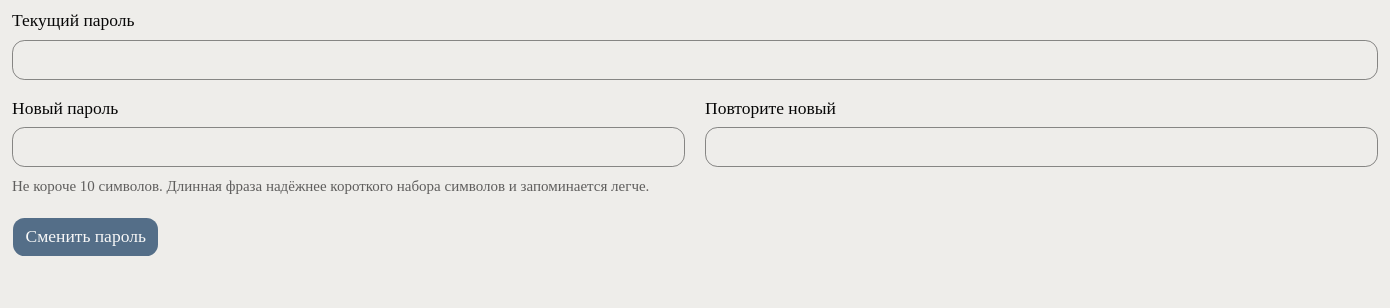
Test: смена пароля › слабый новый пароль: текущий не стирается — отказ не про него
In the password field labelled "Текущий пароль": (695, 60) [12,40,1378,80], type "старый-пароль"
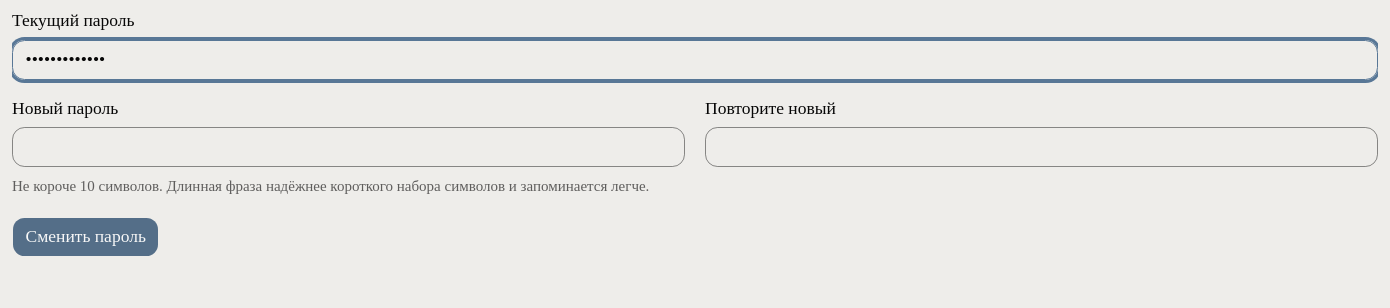
In the password field labelled "Новый пароль": (348, 147) [12,127,685,167], type "password12345"
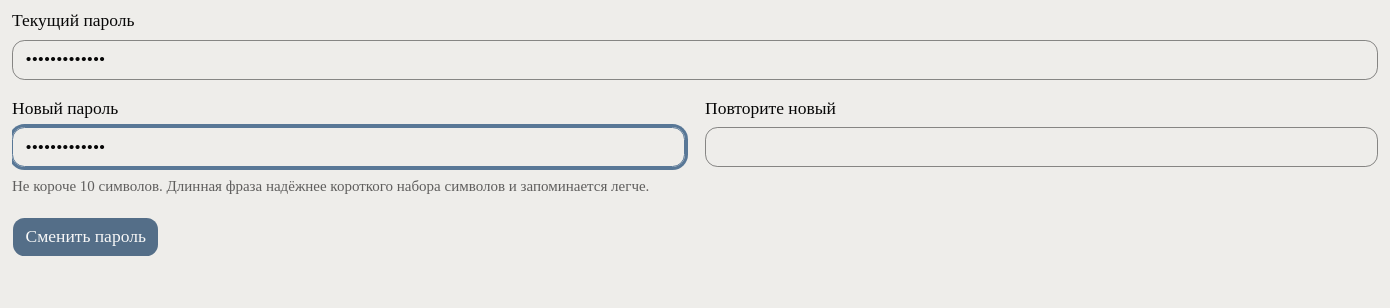
Click the button "Сменить пароль": (86, 237) [12,217,159,257]
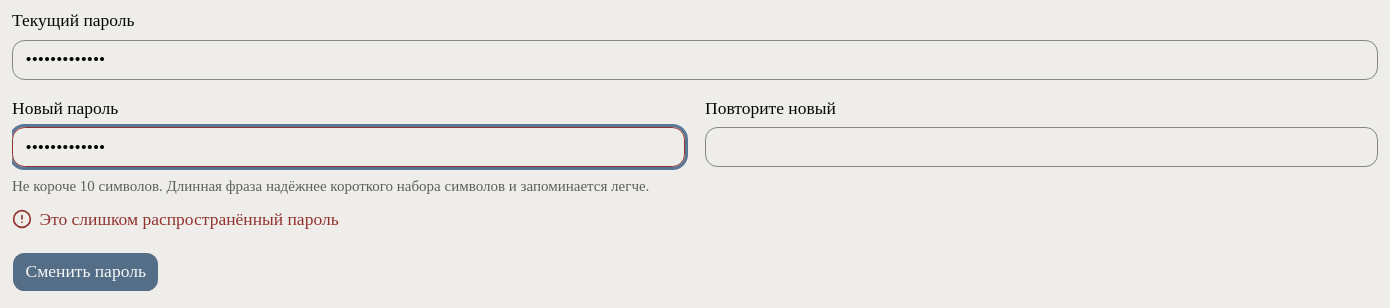
Check: the text "Это слишком распространённый пароль" is shown, box [40,207,339,232]
